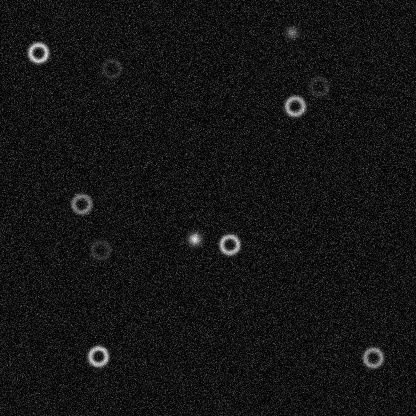Ring: (217, 232, 241, 256), (282, 93, 306, 117), (306, 74, 330, 98), (86, 344, 110, 368), (69, 191, 93, 215), (360, 345, 384, 369), (26, 40, 50, 64), (99, 56, 123, 80), (88, 237, 112, 261)
Spot: (283, 24, 299, 40), (186, 230, 202, 246)
